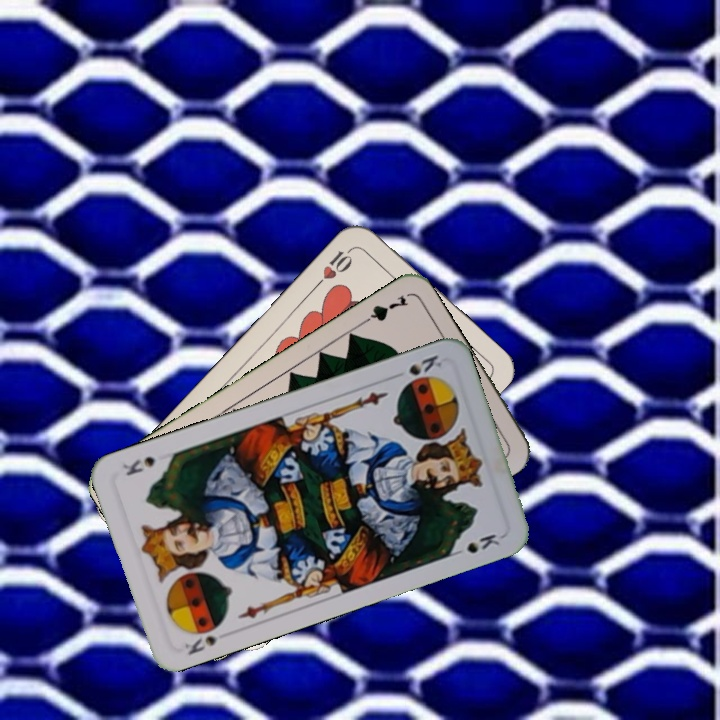G7: (355, 290, 411, 329)
H10: (311, 242, 357, 290)
SK: (388, 350, 445, 381), (180, 631, 220, 658)
